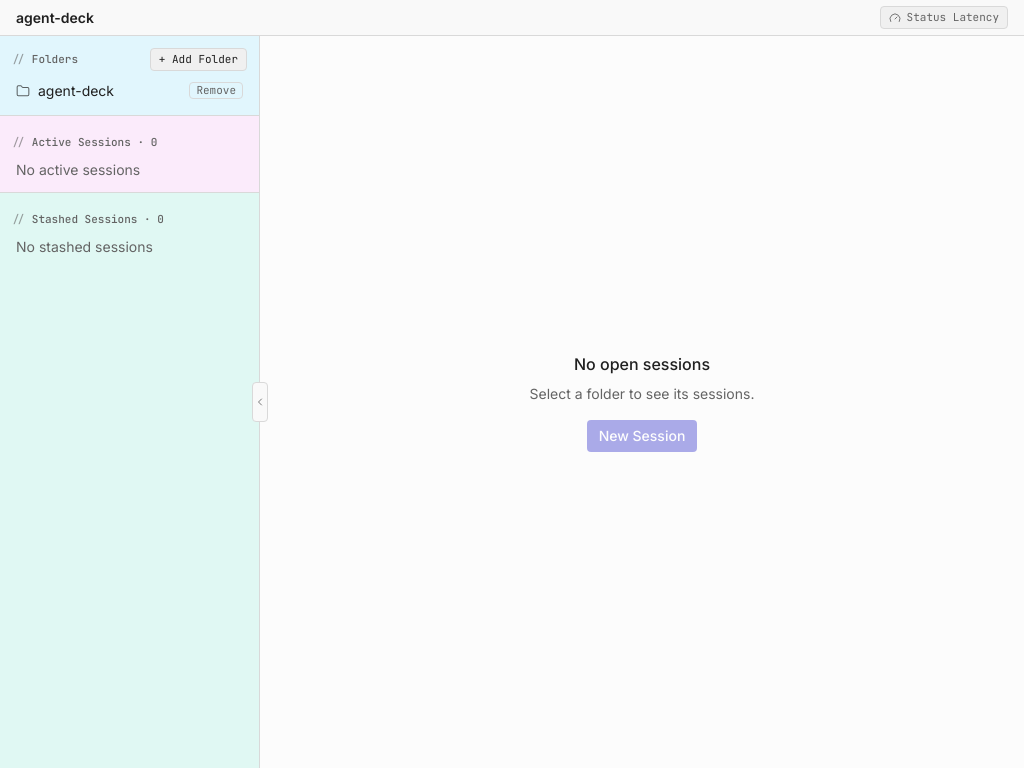
New Session (5.4) › is disabled until a folder is selected, then offered in the Session History Panel
Expected: the text "agent-deck" below "Folders" is shown, [38,82,114,98]
Expected: the button "New Session" is disabled, [587,420,697,452]
Click the button "agent-deck". click: (99, 90)
box: [16,80,181,100]
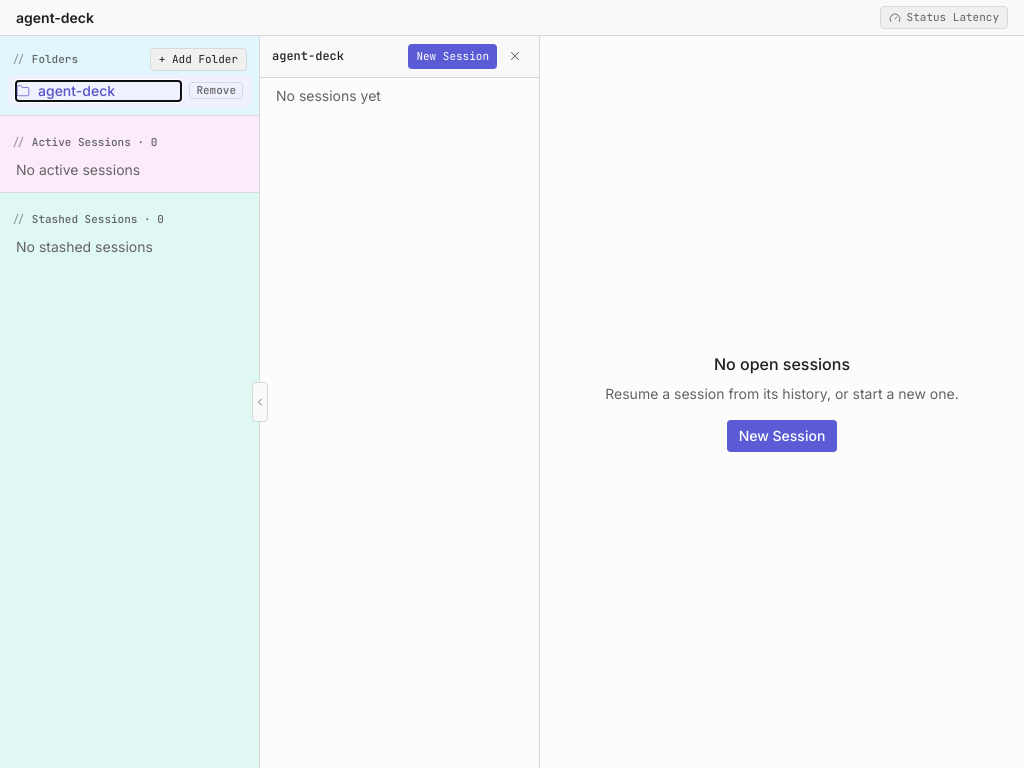
Result: the 1st button "New Session" is enabled at [408,44,497,68]
